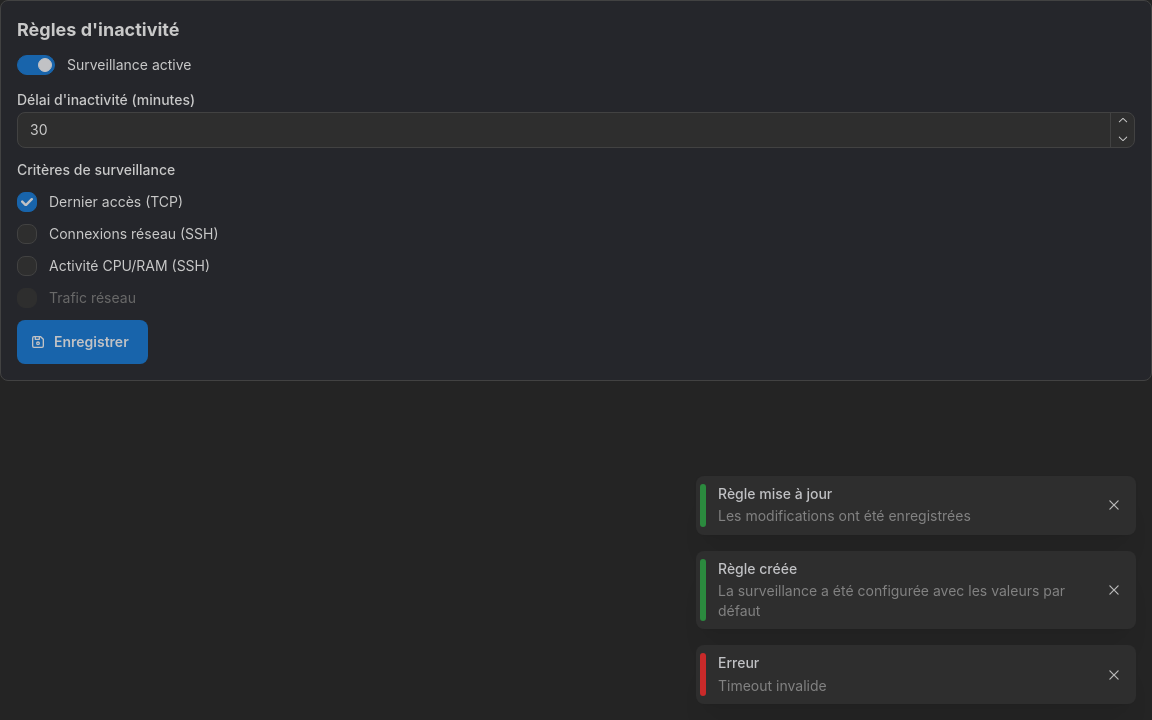
Test case: InactivityRulesSection — configurable thresholds › should show threshold inputs after enabling cpuRamActivity checkbox
Expected: the field labelled "seuil cpu" is not shown
# Enable cpuRamActivity
Click the checkbox labelled "Activité CPU/RAM (SSH)": {"x": 27, "y": 266} [17,256,37,276]
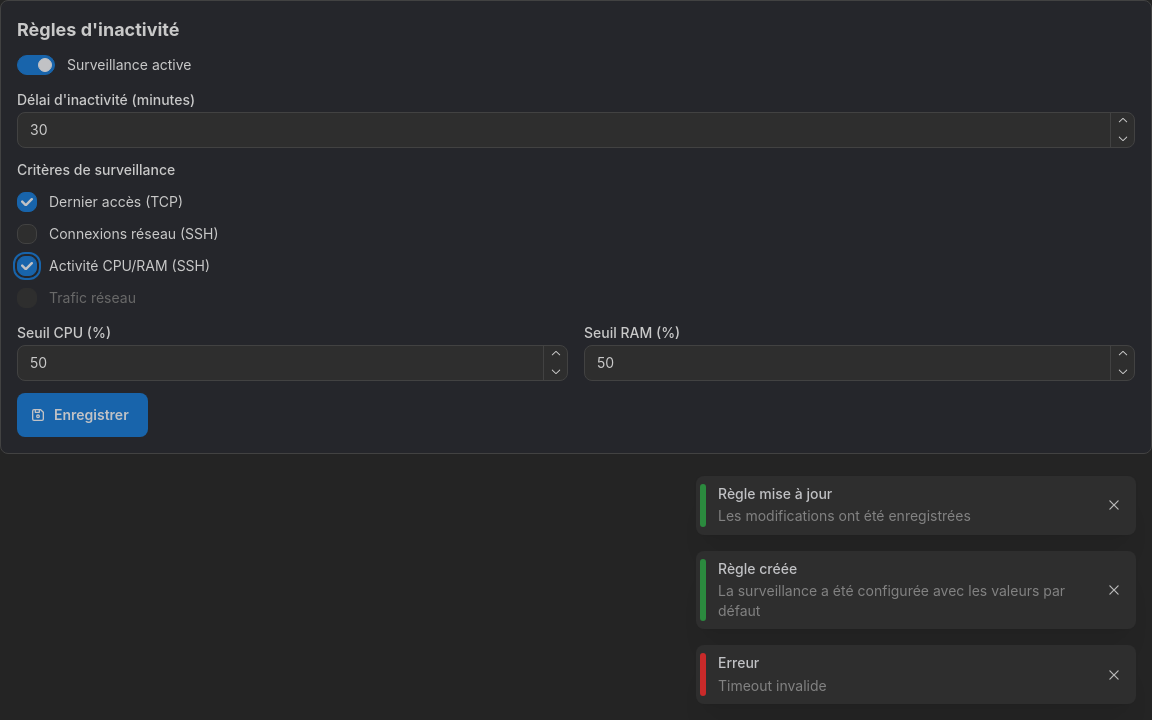
Now the field labelled "Seuil CPU (%)" is shown, box [17,345,568,381]
Now the field labelled "Seuil RAM (%)" is shown, box [584,345,1135,381]
